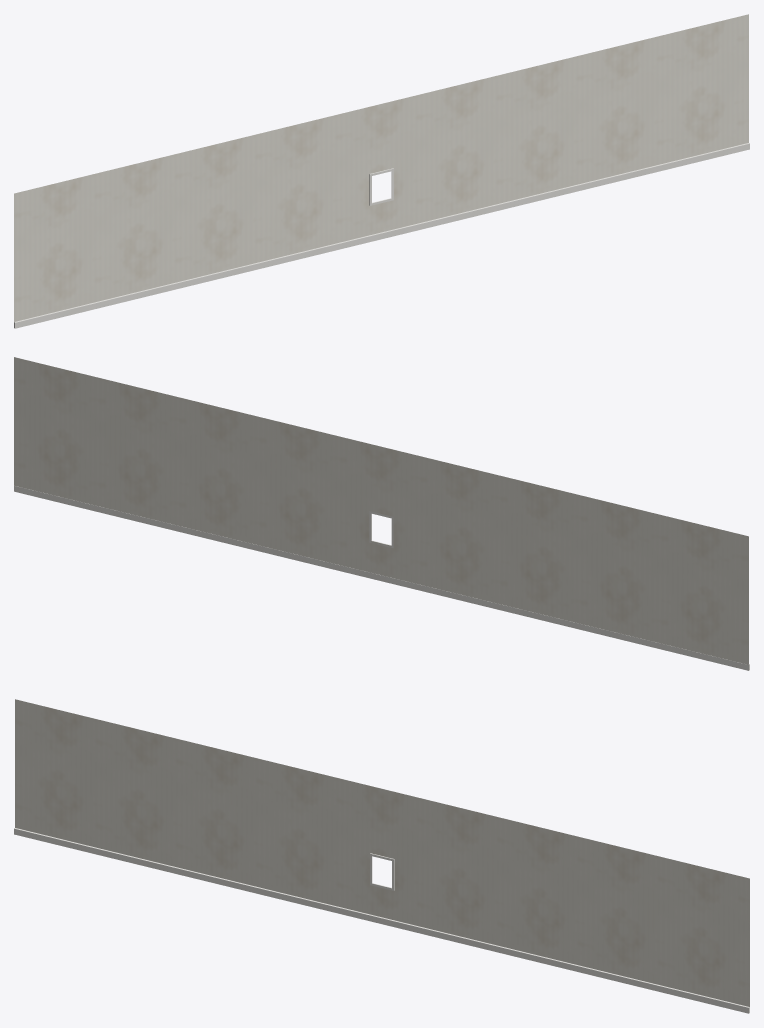
File: wall18_vent_hi.gltf
3 views of the same model, one above another, from view 1: azimuth 30°, elevation 25°; view 2: azimuth 150°, elevation 25°; view 3: azimuth 330°, elevation 25° (orthographic).
Visible parts, largest first — view 1: jx_w18_vent_hi; view 2: jx_w18_vent_hi; view 3: jx_w18_vent_hi.
Boxes of the visible parts, bbox=[...] form: jx_w18_vent_hi: bbox=[14, 14, 749, 328]; jx_w18_vent_hi: bbox=[14, 357, 749, 670]; jx_w18_vent_hi: bbox=[14, 699, 749, 1013].
Bounding box in the file's own units: 18.3 × 3.2 × 0.05.
2 materials, 2 textured.
